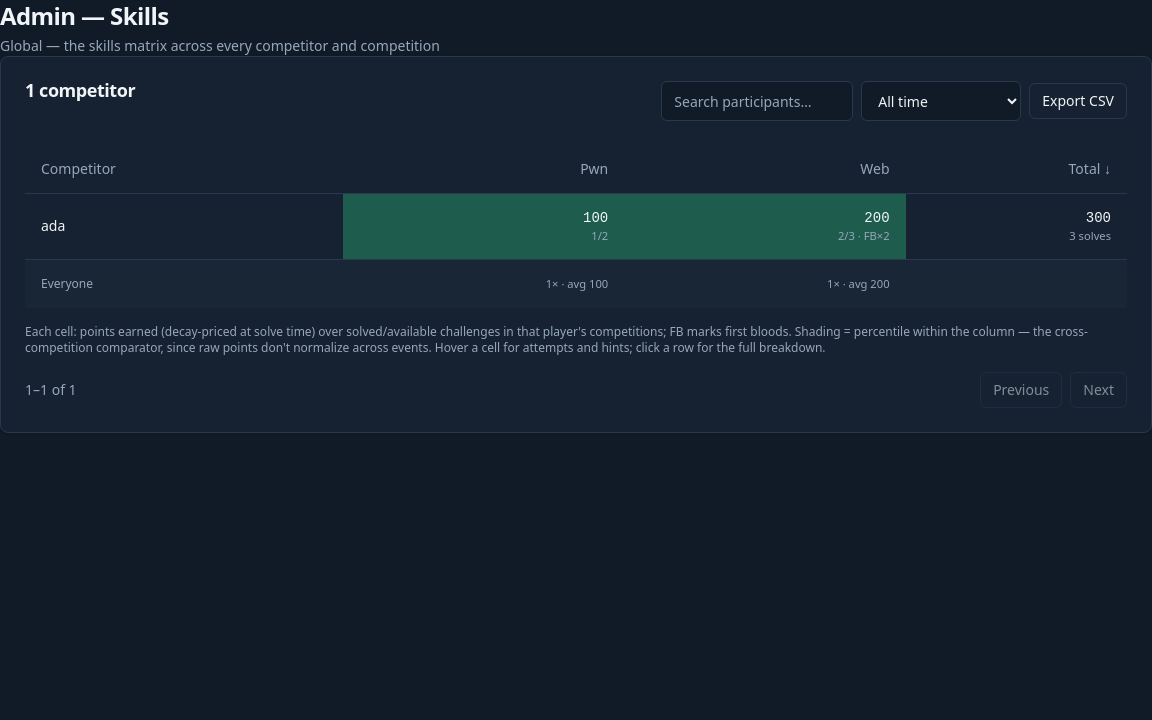
Test: AdminSkillsPage v2 › opens the drill-down on a row click
Click the text "ada": click(53, 226) [25,193,343,260]
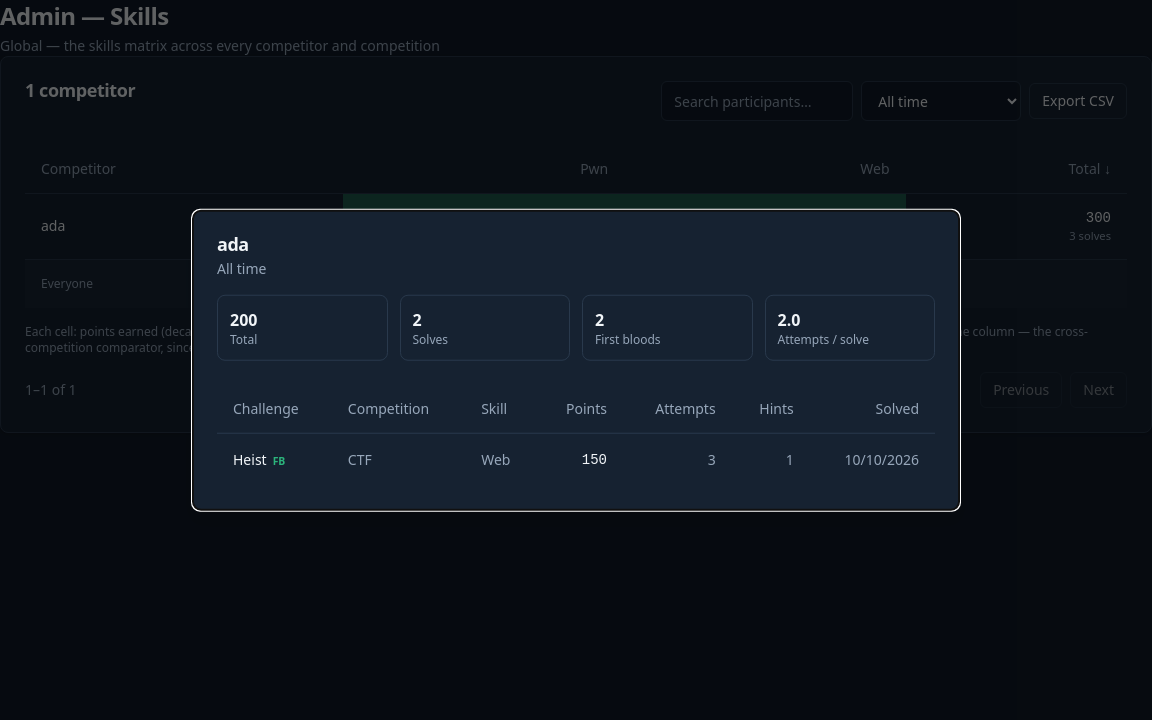
Expected: the text "Heist" is shown, [233,449,267,468]
Expected: the text "CTF" is shown, [332,433,465,485]
Expected: the text "150" is shown, [537,433,623,485]
